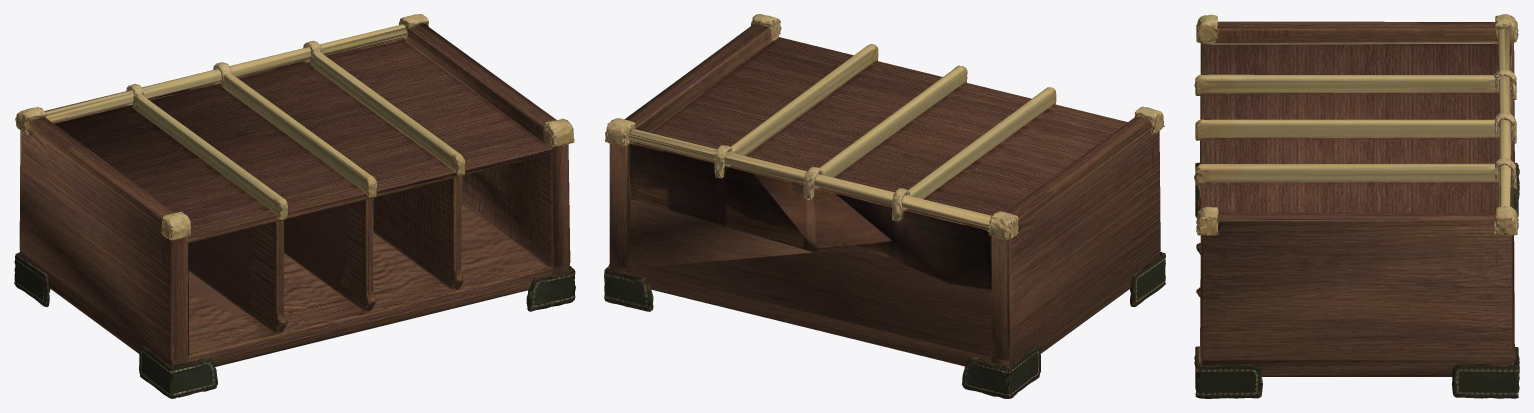
File: hybrid-folder-organizer.glb
3 renders of one model, left to right at view 1: azimuth 30°, elevation 25°; view 2: azimuth 150°, elevation 25°; view 3: azimuth 270°, elevation 25°, orthographic. The views are drawn at different scales.
Parts seen in each view (by area): view 1: Mesh_0; view 2: Mesh_0; view 3: Mesh_0.
Boxes of the visible parts, left/top/right/bottom form: Mesh_0: left=14, top=14, right=575, bottom=398; Mesh_0: left=604, top=14, right=1165, bottom=398; Mesh_0: left=1194, top=14, right=1519, bottom=398.
Size of the model in its own units: 0.2838 by 0.12 by 0.1918.
1 material, 1 textured.
